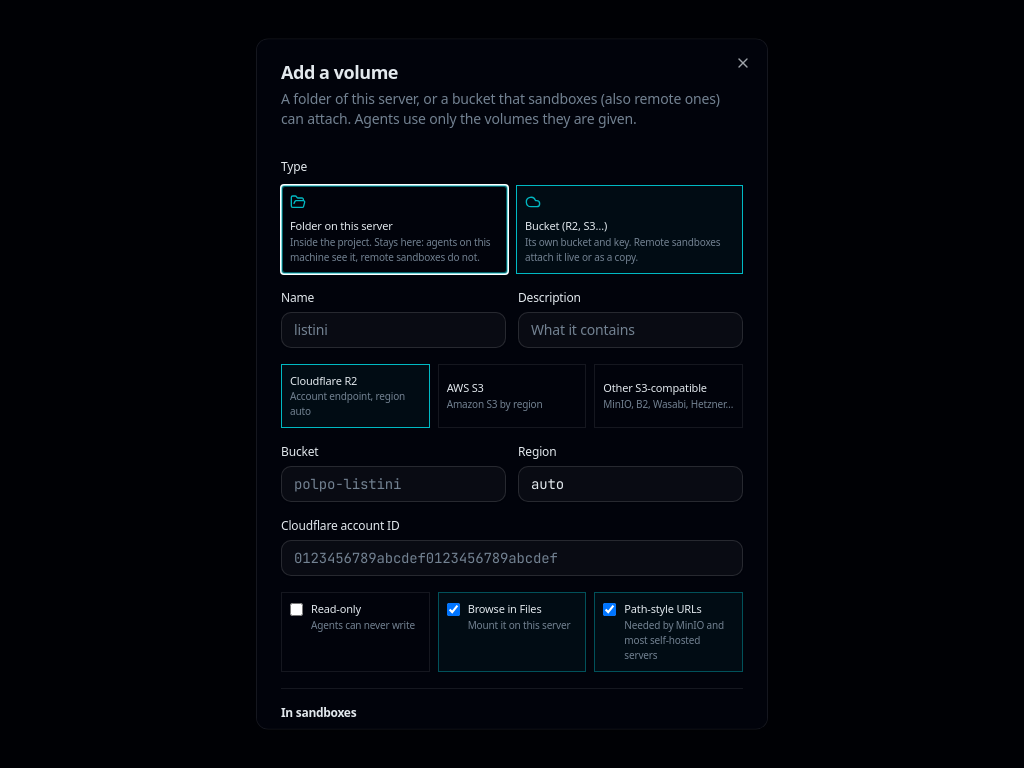
Scenario: switching to AWS S3 clears the endpoint and uses virtual-hosted addressing
Click the button "AWS S3 Amazon S3 by region" at (512, 396), box [438,364,586,428]
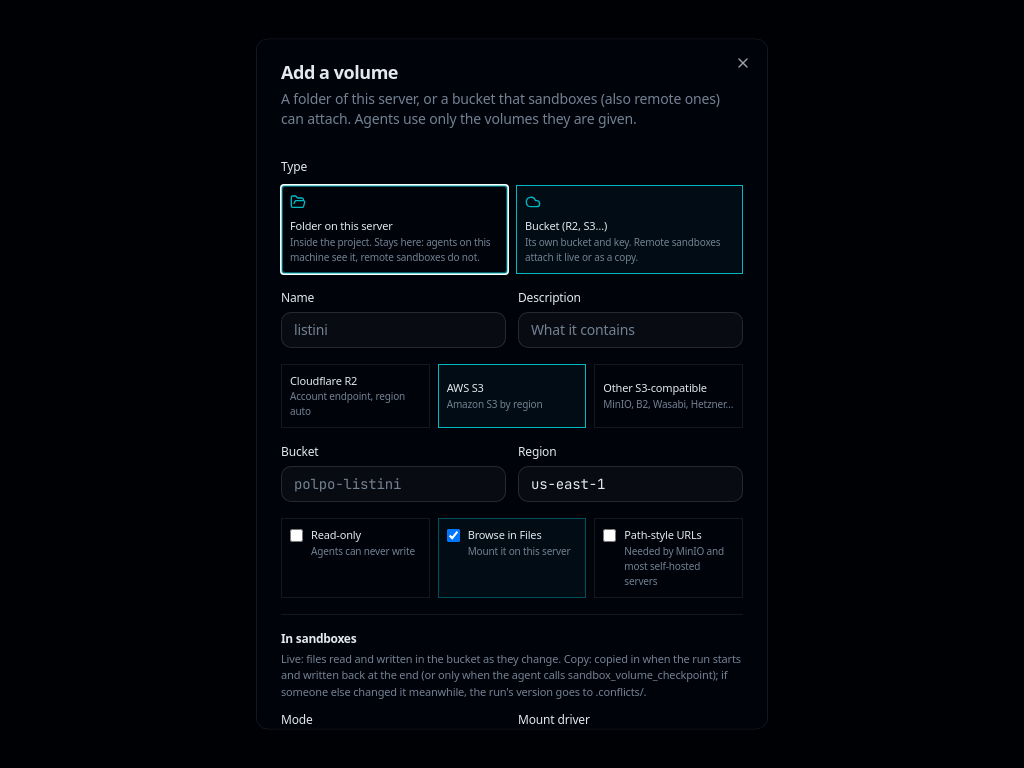
Check: the field labelled "Region" holds "us-east-1", box [518,466,743,502]
Check: the text "Cloudflare account ID" is gone
Check: the checkbox labelled "Path-style URLs Needed by MinIO and most self-hosted servers" is not checked, box [603,529,616,542]
